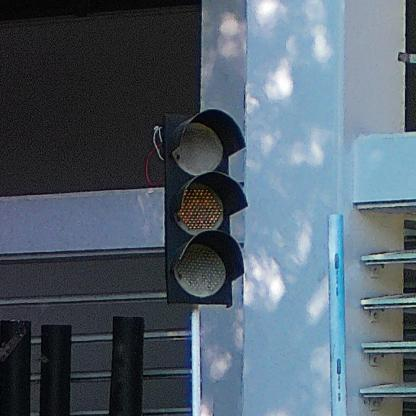yellow: (163, 114, 242, 304)
